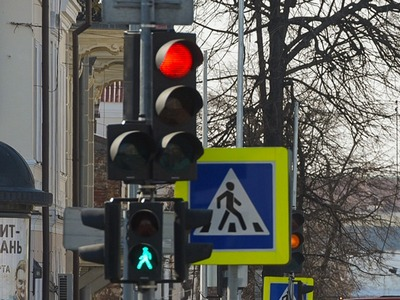crosswalk: (188, 165, 274, 246)
trafficlight_red: (150, 32, 201, 171)
